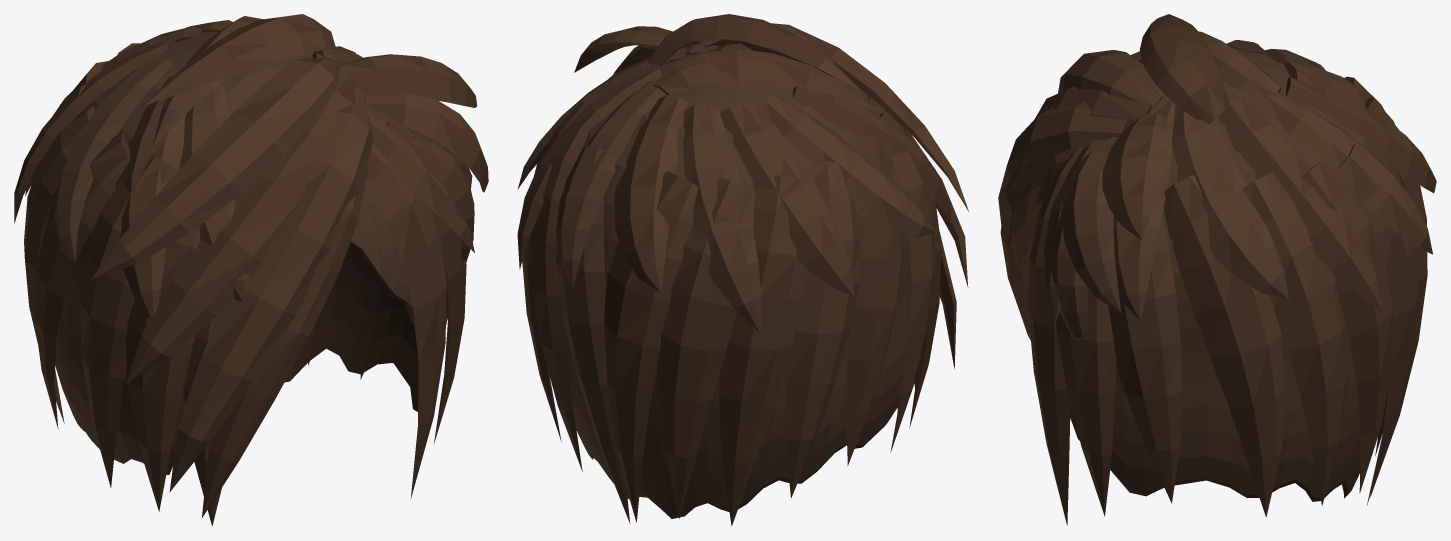
File: corte-feminino-01.glb
3 renders of one model, left to right at view 1: azimuth 30°, elevation 25°; view 2: azimuth 150°, elevation 25°; view 3: azimuth 270°, elevation 25°, orthographic. The views are drawn at different scales.
Parts seen in each view (by area): view 1: Corte_Feminino_01; view 2: Corte_Feminino_01; view 3: Corte_Feminino_01.
Boxes of the visible parts, box(x1,y1,x2,y2) form: Corte_Feminino_01: box(14, 14, 488, 526); Corte_Feminino_01: box(517, 14, 969, 526); Corte_Feminino_01: box(998, 14, 1436, 525).
Size of the model in its own units: 0.222 by 0.2485 by 0.2118.
